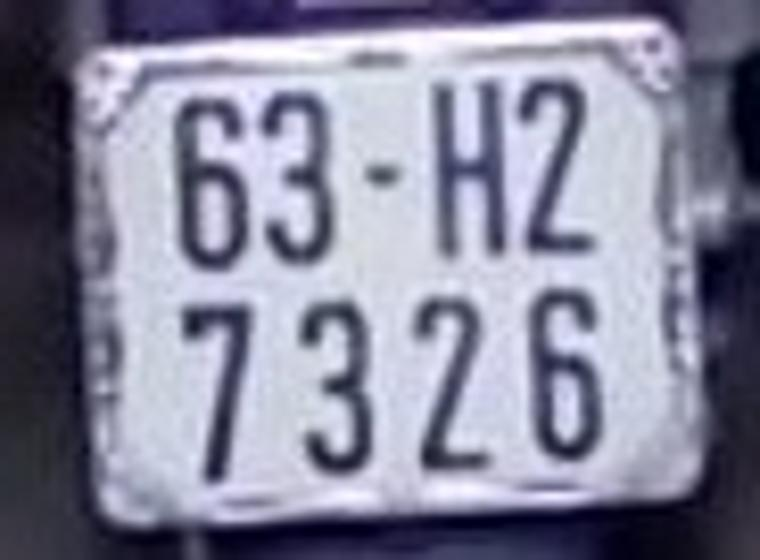-: (357, 142, 411, 193)
2: (401, 288, 500, 474), (529, 75, 598, 261)
3: (303, 301, 379, 479), (270, 91, 342, 275)
6: (168, 100, 264, 276), (529, 285, 612, 466)
7: (179, 300, 259, 488)
H: (428, 78, 517, 260)
